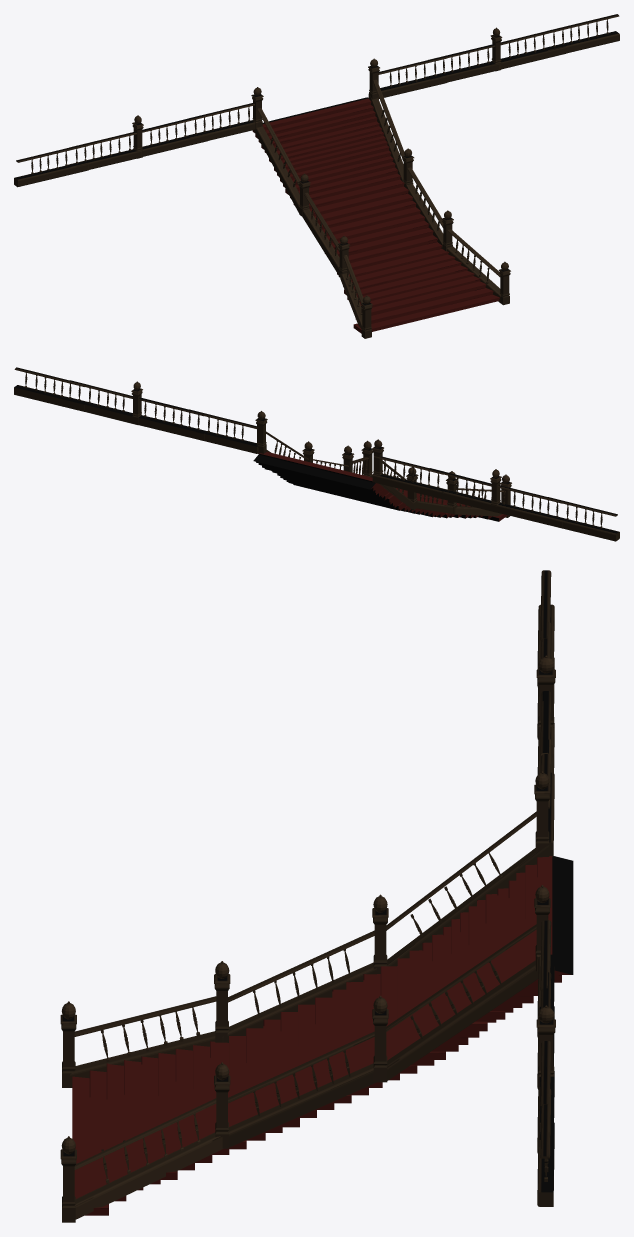
File: merdivenFixed.fbx
3 views of the same model, one above another, from view 1: azimuth 30°, elevation 25°; view 2: azimuth 150°, elevation 25°; view 3: azimuth 270°, elevation 25° (orthographic). The views are drawn at different scales.
Visible parts, largest first — view 1: merdiven; view 2: merdiven; view 3: merdiven.
Part boxes in pixels (x1,y1,x2,y2): merdiven: (14,14,619,338); merdiven: (14,367,619,541); merdiven: (60,570,573,1222).
Bounding box in the file's own units: 2429 × 621 × 896.
